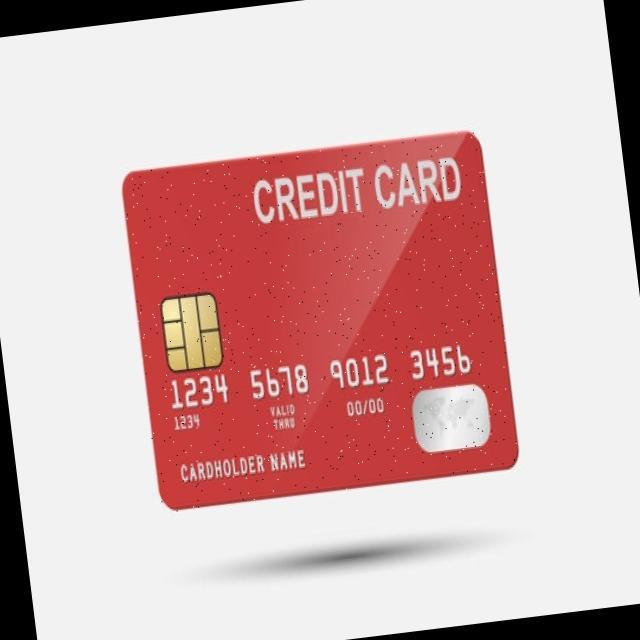payment_card: (120, 129, 520, 510)
